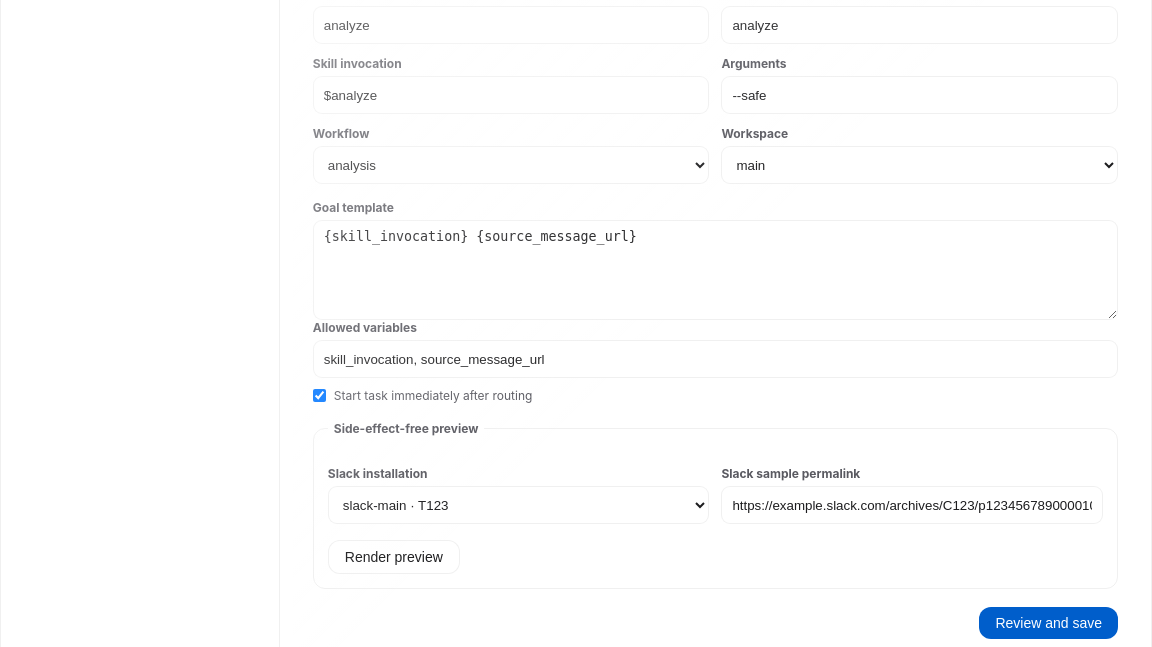
SourceAutomations › projects structured daemon diagnostics onto the responsible field
(page scrolled)
Click the button "Render preview": click(394, 557) 328,540 -> 460,574
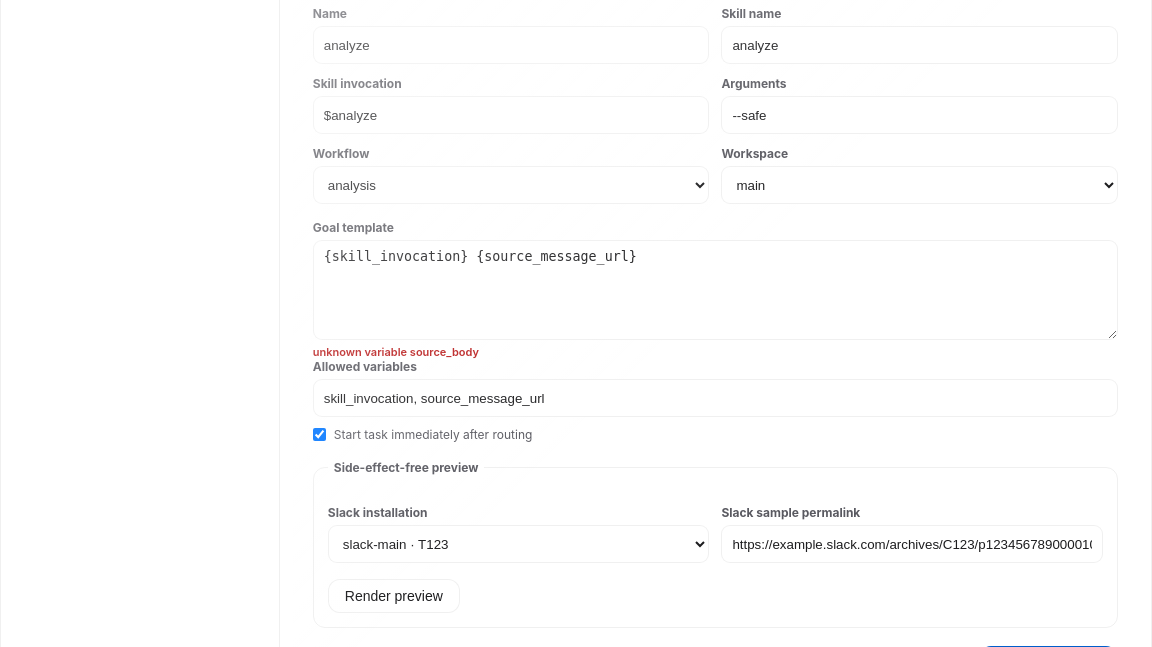
expect the text "unknown variable source_body" is shown: met, box 313,345 -> 479,359
